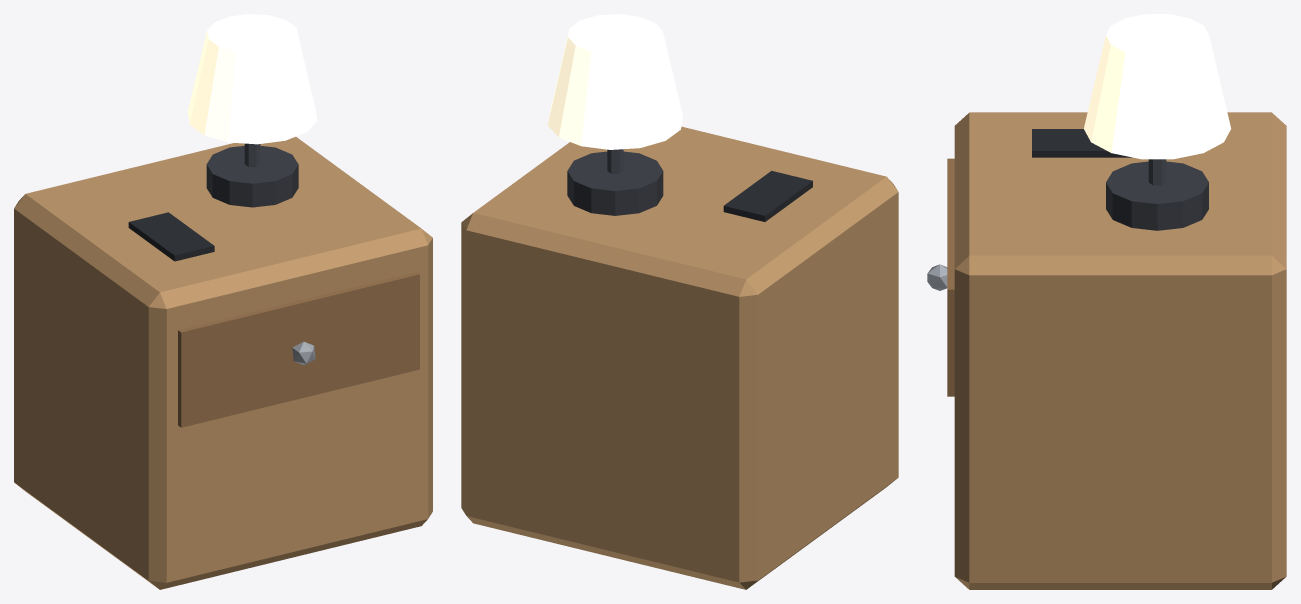
Rendered from nightstand.glb.
3 renders of one model, left to right at view 1: azimuth 30°, elevation 25°; view 2: azimuth 150°, elevation 25°; view 3: azimuth 270°, elevation 25°, orthographic. The views are drawn at different scales.
Parts seen in each view (by area): view 1: nightstand_mesh; view 2: nightstand_mesh; view 3: nightstand_mesh.
Part boxes in pixels (x1,y1,x2,y2): nightstand_mesh: [14, 14, 432, 589]; nightstand_mesh: [461, 14, 898, 589]; nightstand_mesh: [927, 14, 1286, 589].
Bounding box in the file's own units: 0.5 × 0.76 × 0.487.
